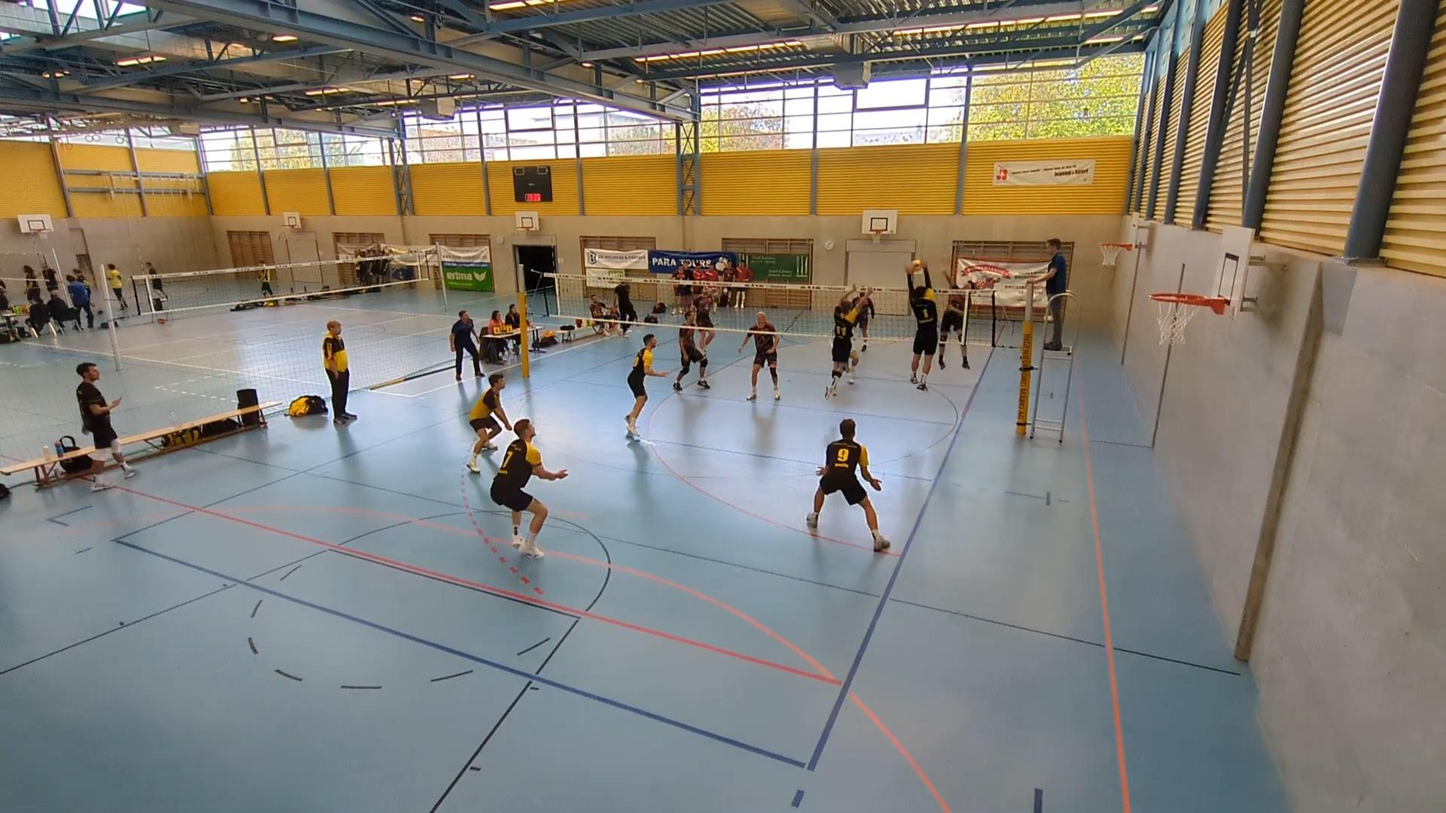Attack: (934, 258, 986, 382)
Block: (907, 261, 944, 396), (826, 289, 874, 393)
Player: (806, 419, 889, 551), (490, 419, 567, 558), (466, 373, 513, 473), (625, 333, 669, 437), (739, 311, 780, 400), (673, 310, 709, 390), (693, 285, 716, 354), (856, 300, 874, 350)
